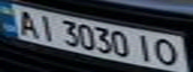0: (109, 28, 133, 60), (75, 21, 96, 52)
3: (54, 18, 81, 48), (93, 25, 112, 56)
A: (9, 7, 42, 38)
I: (33, 12, 60, 43), (133, 33, 157, 63)
O: (151, 37, 184, 67)
